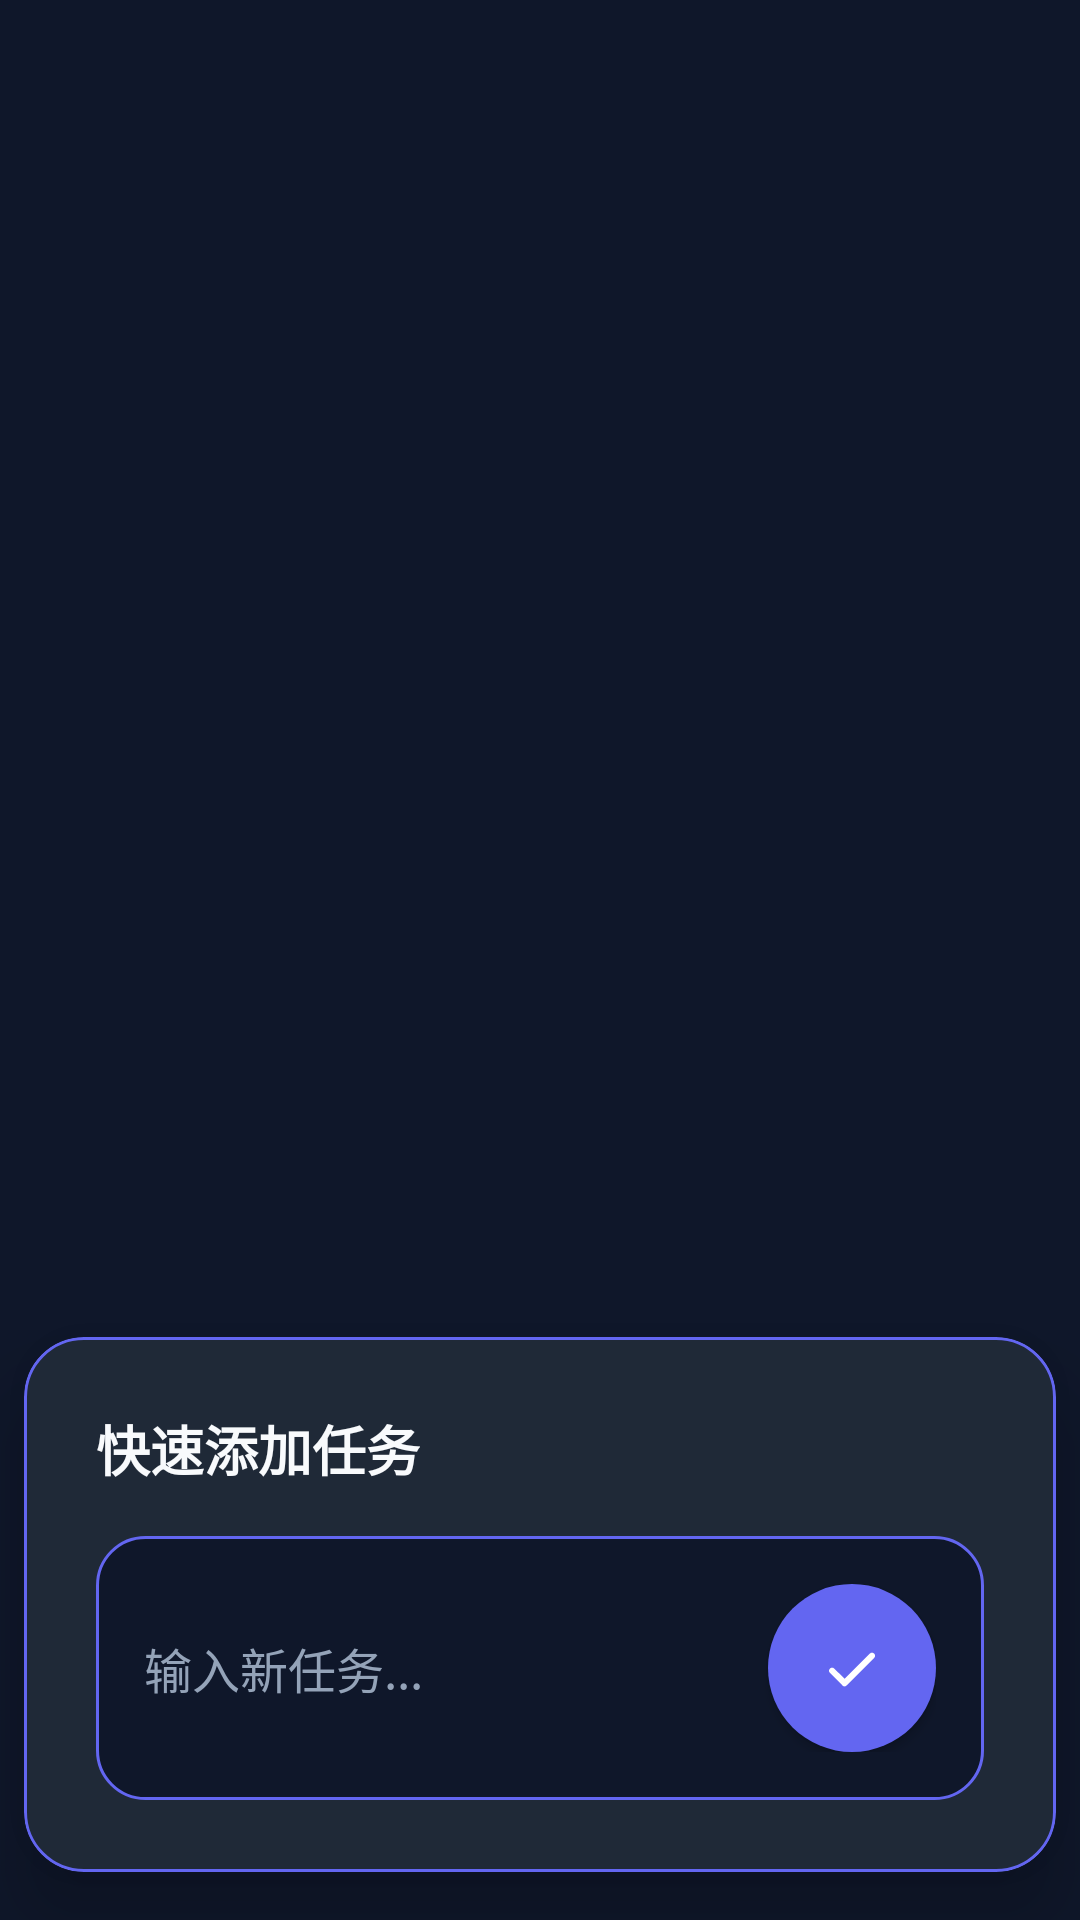

Icons on this 1080px x 1920px Android screen, each with its box as (x1, y1, x2, y2):
确认添加: (768, 1584, 936, 1752)
